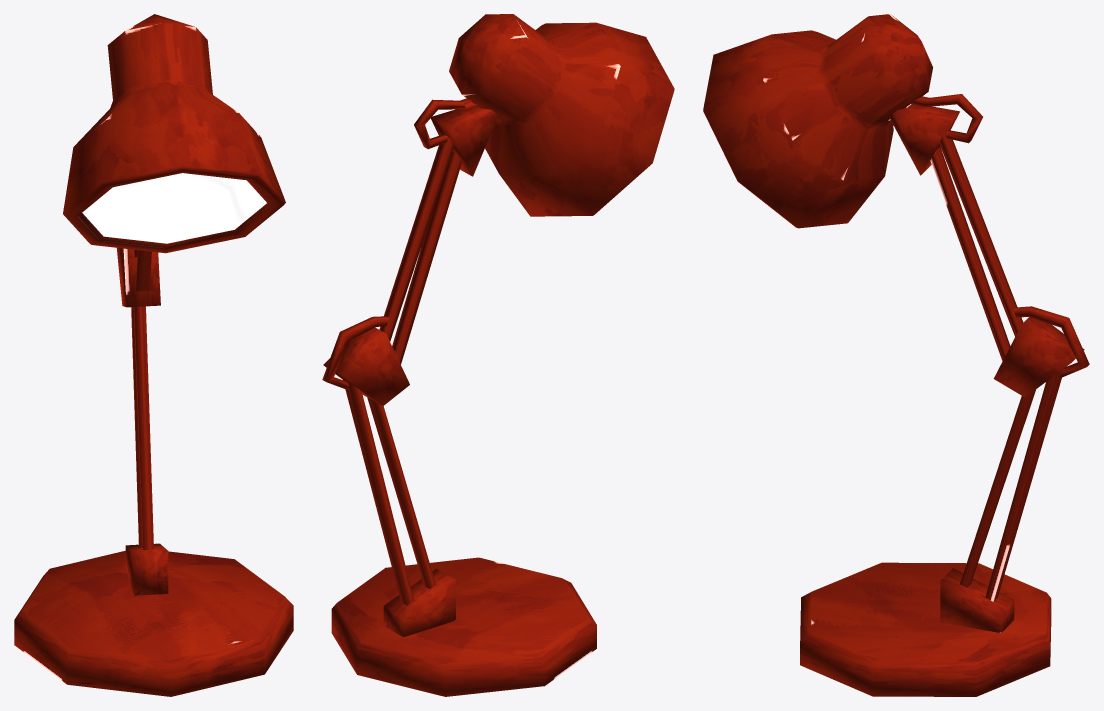
Rendered from Lamp on table.fbx.
3 views of the same model, side by side, from view 1: azimuth 30°, elevation 25°; view 2: azimuth 150°, elevation 25°; view 3: azimuth 270°, elevation 25° (orthographic). The views are drawn at different scales.
Parts seen in each view (by area): view 1: lamp on table_BAKED; view 2: lamp on table_BAKED; view 3: lamp on table_BAKED.
Part boxes in pixels (box(x1,y1,x2,y2)): lamp on table_BAKED: box(14, 14, 293, 696); lamp on table_BAKED: box(322, 14, 674, 696); lamp on table_BAKED: box(703, 14, 1089, 696).
Size of the model in its own units: 20.64 by 49.15 by 27.89.
